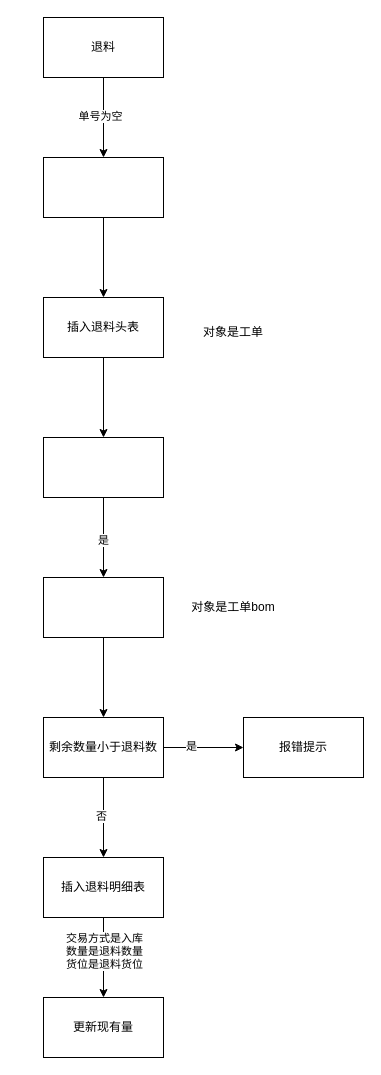
The diagram is 381 pixels wide and 1075 high, and some of its shapes have lost their labels. Each missing label, with the centre of its shape:
明细不为空: (103,467)
根据明细工单号和物料编码查剩余投料数: (103,607)
根据表单规则 inv_mo_material_return生成单号: (103,187)
